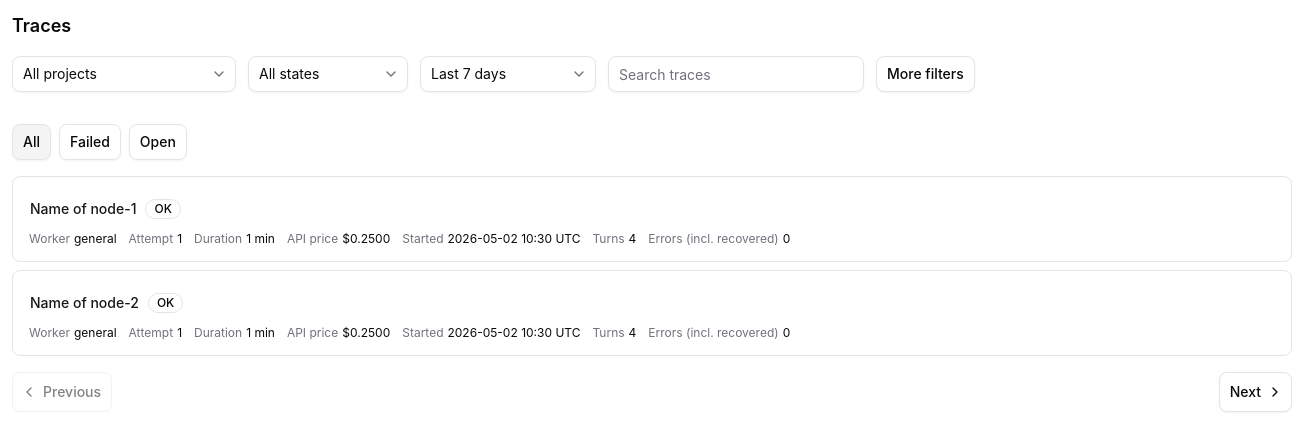
Test: TracesScreen › reads only the nodes that no earlier page read after Next and none after Previous
The image size is (1304, 430).
Expected: the text "Name of node-2" is shown, [30,293,139,313]
Click the button "Next".
click(1255, 392)  # box [1219,372,1292,412]
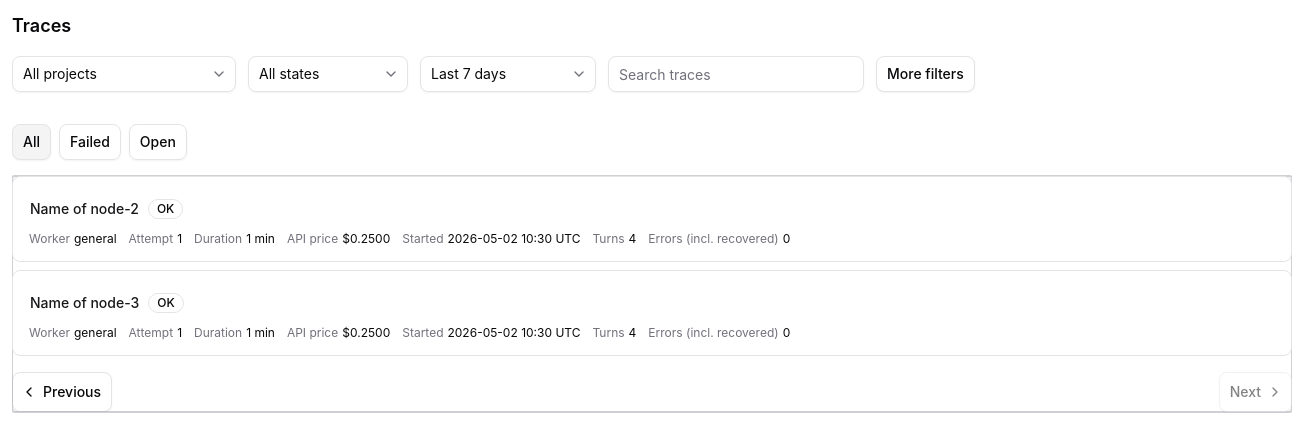
Now the text "Name of node-3" is shown, box [30,293,139,313]
Click the button "Previous".
click(62, 392)  # box [12,372,112,412]
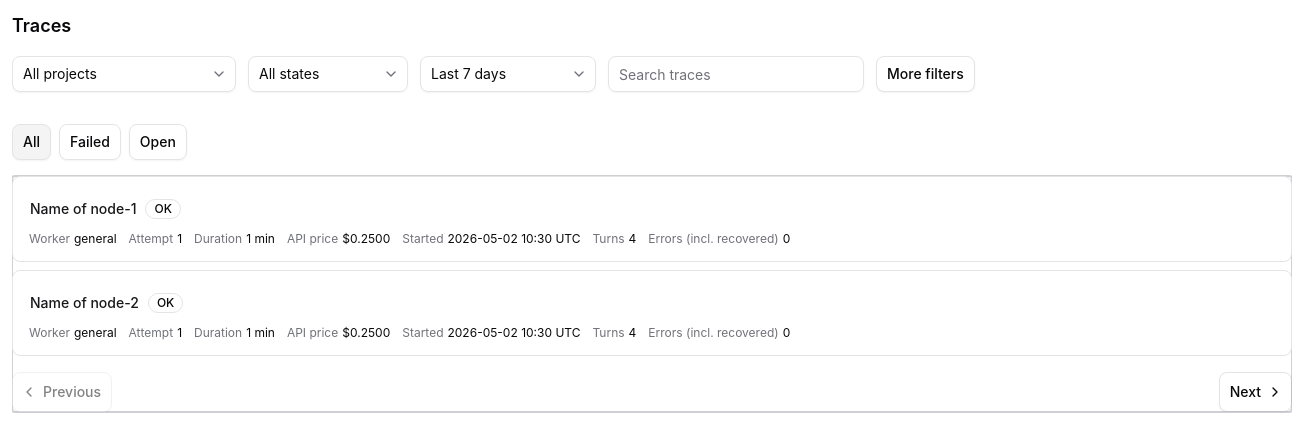
Now the text "Name of node-1" is shown, box [30,199,136,219]
